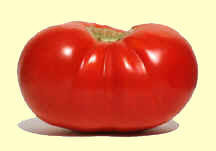tomato: (18, 21, 198, 131)
